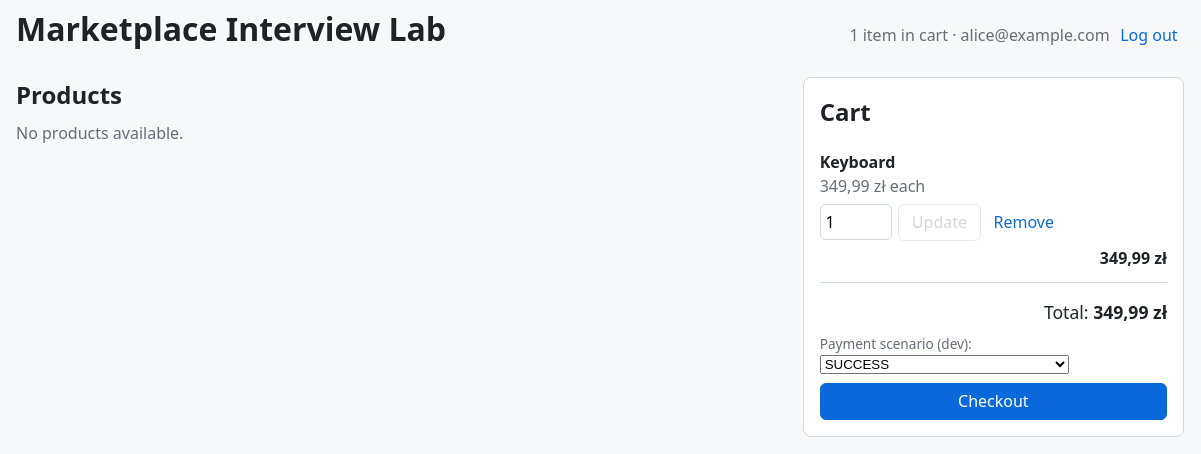
Test: App checkout › refreshes the cart after a failed payment, because the backend put the items back
The width and height of the screenshot is (1201, 454).
Click the button "Checkout".
click(993, 401)  # box [820,382,1167,420]
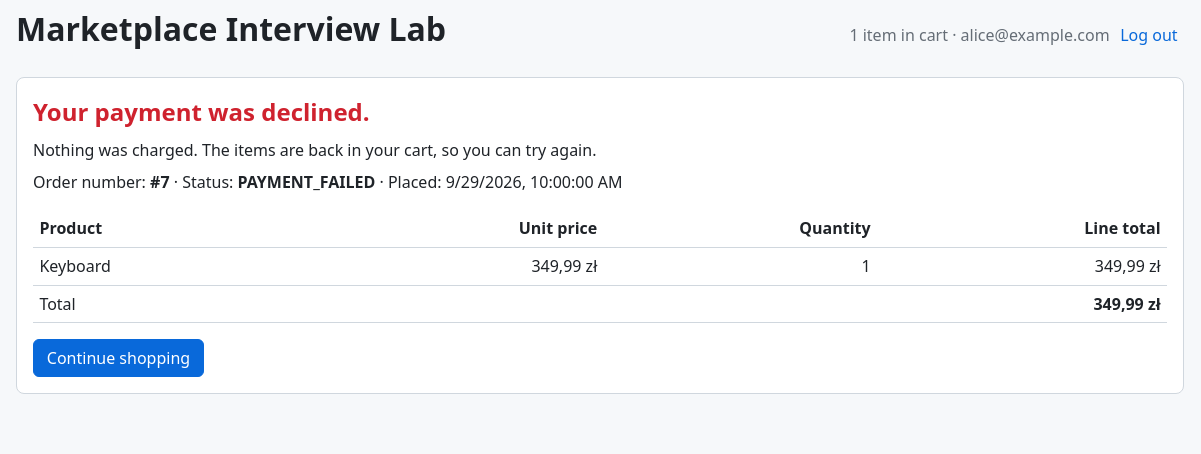
Expected: the heading "Your payment was declined." is shown, [33,95,370,128]
